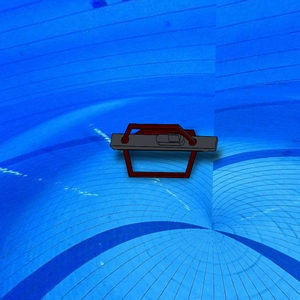submarine: (89, 100, 229, 193)
